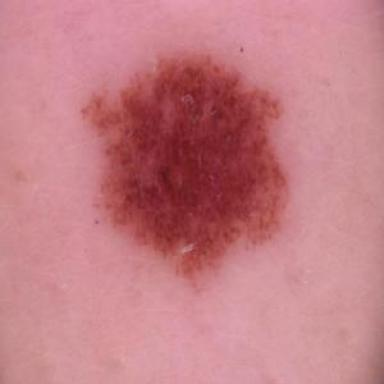Melanoma: (83, 55, 295, 278)
